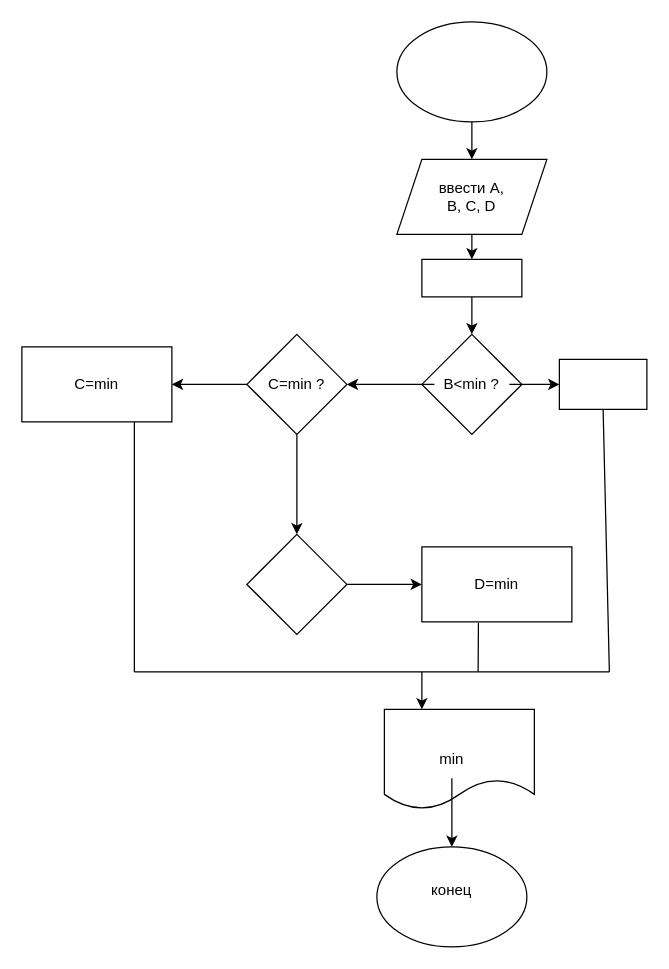
Image size: 669x969. Some labels were removed from this diagram. Here are the shapes that lost their labels. From the top down, the box of each, then its label:
(396, 21, 547, 122): начало
(421, 258, 522, 297): min=A
(558, 358, 647, 409): B=min
(246, 533, 347, 634): D=min ?
